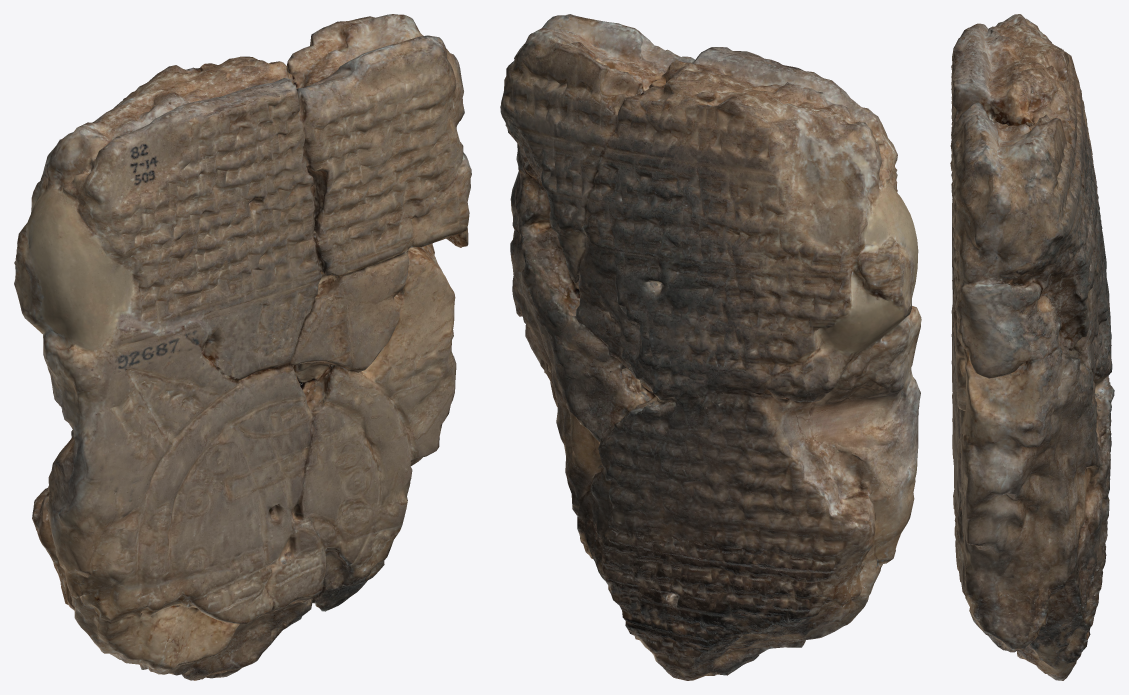
The model's file is Clay_tablet_001.gltf.
3 views of the same model, side by side, from view 1: azimuth 30°, elevation 25°; view 2: azimuth 150°, elevation 25°; view 3: azimuth 270°, elevation 25° (orthographic). The views are drawn at different scales.
Parts seen in each view (by area): view 1: Object_2; view 2: Object_2; view 3: Object_2.
Part boxes in pixels (<box>): Object_2: <box>14,14,471,680</box>; Object_2: <box>500,14,921,680</box>; Object_2: <box>950,14,1114,680</box>.
Size of the model in its own units: 3.89 by 5.52 by 1.34.
1 material, 1 textured.
